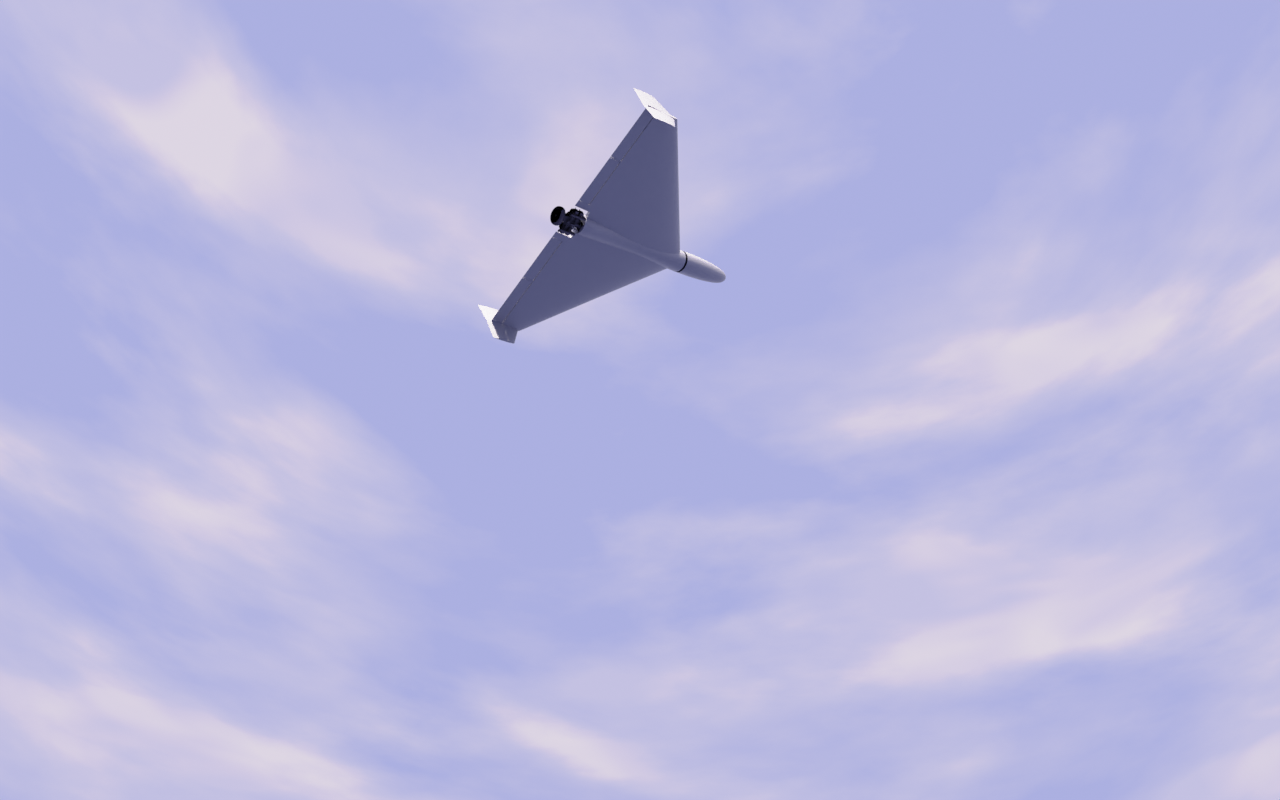shahed: (478, 88, 728, 345)
